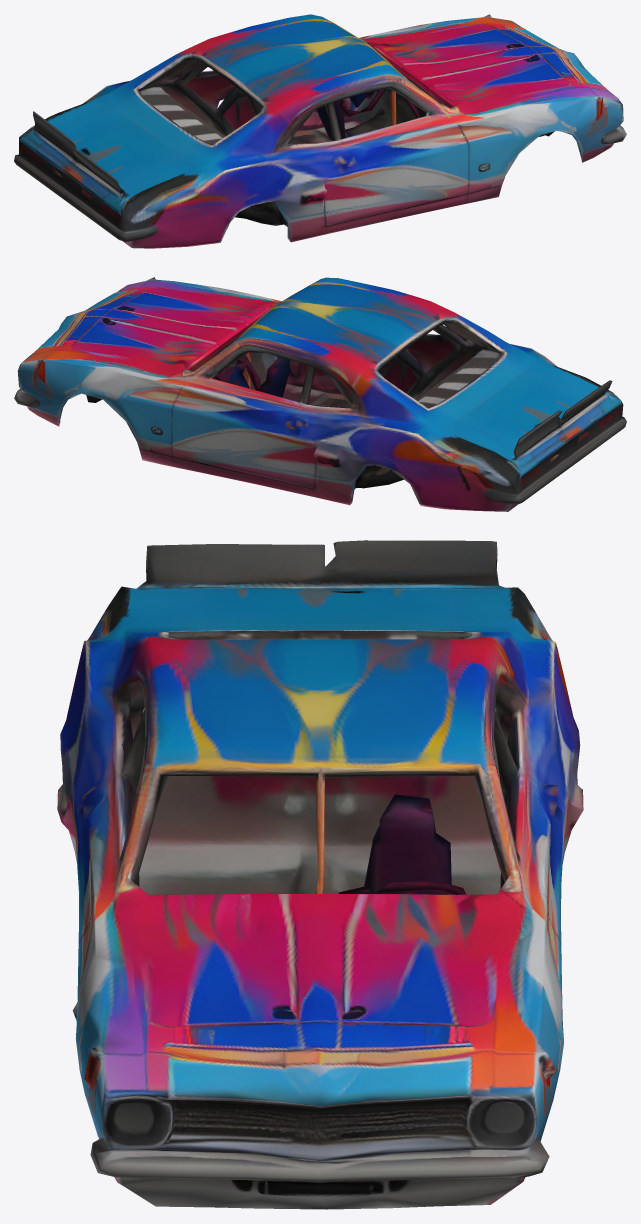
The model's file is car.glb.
The picture shows the model from 3 angles, top to bottom: view 1: azimuth 30°, elevation 25°; view 2: azimuth 150°, elevation 25°; view 3: azimuth 270°, elevation 25°; orthographic projection. The views are drawn at different scales.
Parts seen in each view (by area): view 1: tripo_node_ccf76192-5680-48b6-9b21-2859c8dc09e0; view 2: tripo_node_ccf76192-5680-48b6-9b21-2859c8dc09e0; view 3: tripo_node_ccf76192-5680-48b6-9b21-2859c8dc09e0.
Boxes of the visible parts, x1,y1,x2,y2 form: tripo_node_ccf76192-5680-48b6-9b21-2859c8dc09e0: [14, 14, 626, 248]; tripo_node_ccf76192-5680-48b6-9b21-2859c8dc09e0: [14, 277, 626, 511]; tripo_node_ccf76192-5680-48b6-9b21-2859c8dc09e0: [57, 540, 583, 1209].
Size of the model in its own units: 1 by 0.2751 by 0.4433.
Materials: 1 (1 with a texture image).
